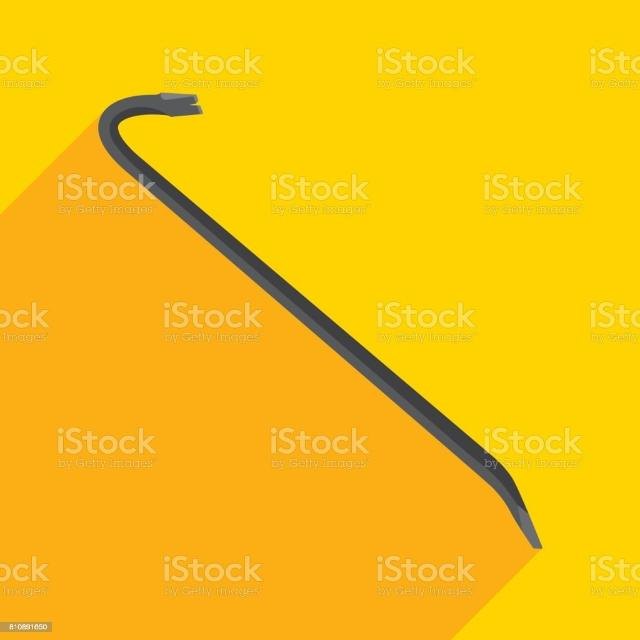crow bar: (106, 92, 547, 559)
